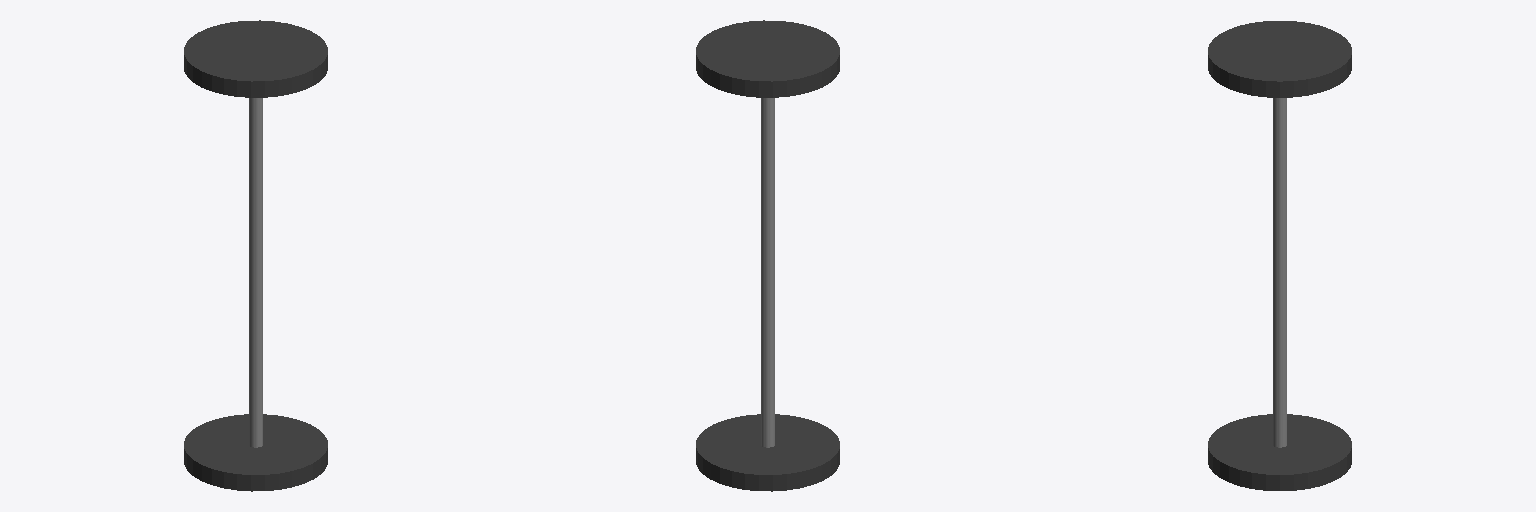
robot.urdf — barbell:
<?xml version="1.0"?>
<robot name="barbell">
    <link name="bar">
        <inertial>
            <origin rpy="0 0 0" xyz="0 0 0" />
            <mass value="1" />
        </inertial>
        <visual>
            <geometry>
                <!-- <box size="0.03 8 0.03"/> -->
                <cylinder length="1.2" radius="0.02" />
            </geometry>
            <material name="slider_mat">
                <color rgba="0.6 0.6 0.6 1" />
            </material>
        </visual>
        <collision>
            <geometry>
                <!-- <box size="0.03 8 0.03"/>-->
                <cylinder length="1.2" radius="0.022" />
            </geometry>
        </collision>
    </link>
    <link name="disk1">
        <inertial>
            <origin rpy="0 0 0" xyz="0 0 0" />
            <mass value="5" />
        </inertial>
        <visual>
            <origin rpy="0 0 0" xyz="0 0 0" />
            <geometry>
                <!-- <box size="0.03 8 0.03"/> -->
                <cylinder length="0.05" radius="0.2" />
            </geometry>
            <material name="slider_mat">
                <color rgba="0.3 0.3 0.3 1" />
            </material>
        </visual>
        <collision>
            <origin rpy="0 0 0" xyz="0 0 0" />
            <geometry>
                <box size="0.4 0.4 0.05" />
                <!-- <cylinder length="0.05" radius="0.2" /> -->
            </geometry>
        </collision>
    </link>
    <joint name="bar_to_disk1" type="fixed">
        <parent link="bar" />
        <child link="disk1" />
        <origin rpy="0 0 0" xyz="0 0 -0.6" />
    </joint>
    <link name="disk2">
        <inertial>
            <origin rpy="0 0 0" xyz="0 0 0" />
            <mass value="5" />
        </inertial>
        <visual>
            <origin rpy="0 0 0" xyz="0 0 0" />
            <geometry>
                <!-- <box size="0.03 8 0.03"/> -->
                <cylinder length="0.05" radius="0.2" />
            </geometry>
            <material name="slider_mat">
                <color rgba="0.3 0.3 0.3 1" />
            </material>
        </visual>
        <collision>
            <origin rpy="0 0 0" xyz="0 0 0" />
            <geometry>
                <box size="0.4 0.4 0.05" />
                <!-- <cylinder length="0.05" radius="0.2" /> -->
            </geometry>
        </collision>
    </link>
    <joint name="bar_to_disk2" type="fixed">
        <parent link="bar" />
        <child link="disk2" />
        <origin rpy="0 0 0" xyz="0 0 0.6" />
    </joint>

</robot>

--- Render facts (derived) ---
3 views of the same robot in one strip: view 1: azimuth 30°, elevation 25°; view 2: azimuth 150°, elevation 25°; view 3: azimuth 270°, elevation 25° (orthographic).
Robot: barbell — 3 links, 2 joints (2 fixed); root link bar; default pose: all joints at 0.
Visible links, largest first — view 1: disk2, disk1, bar; view 2: disk2, disk1, bar; view 3: disk2, disk1, bar.
Link boxes in pixels (x1,y1,x2,y2): disk2: (184,20,327,97); disk1: (184,414,327,491); bar: (249,98,262,447); disk2: (696,20,839,97); disk1: (696,414,839,491); bar: (761,98,774,447); disk2: (1208,21,1351,97); disk1: (1208,414,1351,490); bar: (1273,98,1286,447).
Size in the robot's own frame: 0.4 by 0.4 by 1.25 metres.
Geometry: primitives only (box / cylinder / sphere), no mesh files.